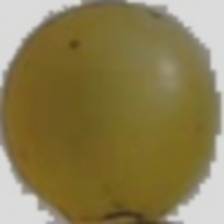grapes: (32, 44, 178, 214)
